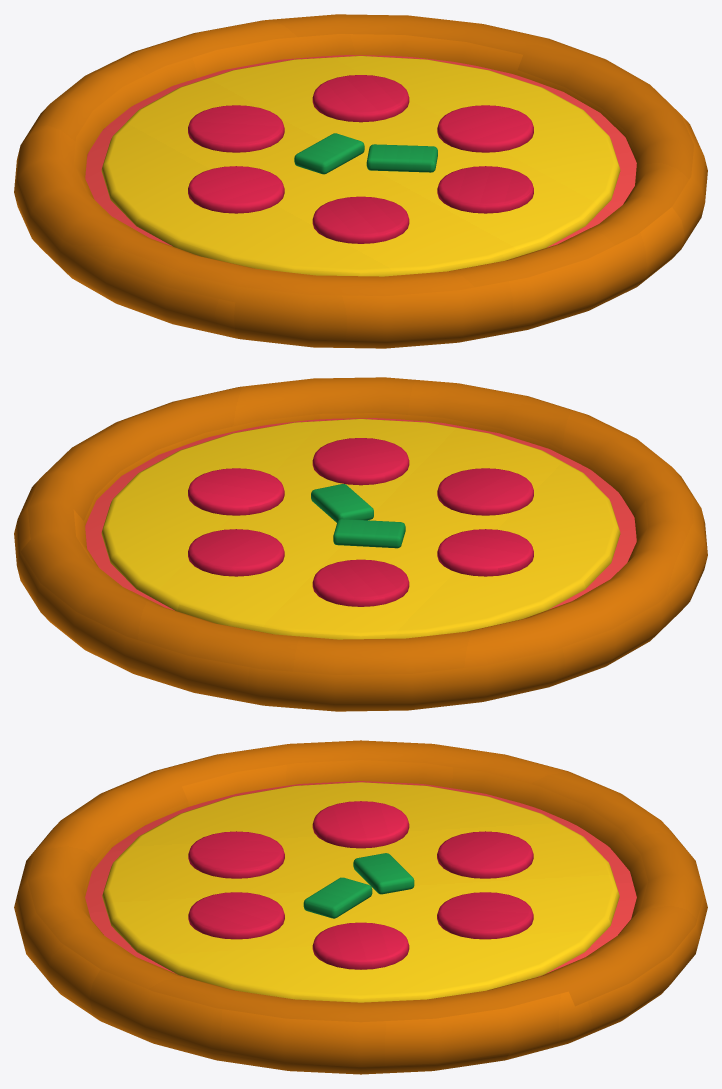
File: pizza.glb
3 views of the same model, one above another, from view 1: azimuth 30°, elevation 25°; view 2: azimuth 150°, elevation 25°; view 3: azimuth 270°, elevation 25° (orthographic).
Visible parts, largest first — view 1: PizzaCornicioneRim, PizzaMeltedCheese, PizzaTomatoSauce, Pepperoni_0, Pepperoni_2, Pepperoni_1, Pepperoni_3, Pepperoni_4, Pepperoni_5, BasilLeaf2, BasilLeaf1; view 2: PizzaCornicioneRim, PizzaMeltedCheese, PizzaTomatoSauce, Pepperoni_0, Pepperoni_4, Pepperoni_1, Pepperoni_2, Pepperoni_3, Pepperoni_5, BasilLeaf1, BasilLeaf2; view 3: PizzaCornicioneRim, PizzaMeltedCheese, PizzaTomatoSauce, Pepperoni_3, Pepperoni_0, Pepperoni_1, Pepperoni_2, Pepperoni_4, Pepperoni_5, BasilLeaf2, BasilLeaf1.
Boxes of the visible parts, left/top/right/bottom form: PizzaCornicioneRim: left=14, top=14, right=707, bottom=348; PizzaMeltedCheese: left=101, top=56, right=620, bottom=276; PizzaTomatoSauce: left=85, top=55, right=636, bottom=247; Pepperoni_0: left=437, top=105, right=533, bottom=152; Pepperoni_2: left=188, top=105, right=284, bottom=152; Pepperoni_1: left=312, top=75, right=409, bottom=122; Pepperoni_3: left=188, top=166, right=284, bottom=213; Pepperoni_4: left=312, top=196, right=409, bottom=243; Pepperoni_5: left=437, top=166, right=533, bottom=213; BasilLeaf2: left=366, top=144, right=437, bottom=172; BasilLeaf1: left=294, top=133, right=364, bottom=174; PizzaCornicioneRim: left=14, top=377, right=707, bottom=711; PizzaMeltedCheese: left=101, top=419, right=620, bottom=639; PizzaTomatoSauce: left=85, top=418, right=636, bottom=610; Pepperoni_0: left=188, top=468, right=284, bottom=515; Pepperoni_4: left=437, top=468, right=533, bottom=515; Pepperoni_1: left=188, top=529, right=284, bottom=576; Pepperoni_2: left=312, top=559, right=409, bottom=606; Pepperoni_3: left=437, top=529, right=533, bottom=576; Pepperoni_5: left=312, top=438, right=409, bottom=485; BasilLeaf1: left=333, top=519, right=405, bottom=548; BasilLeaf2: left=311, top=484, right=373, bottom=522; PizzaCornicioneRim: left=14, top=740, right=707, bottom=1074; PizzaMeltedCheese: left=102, top=782, right=619, bottom=1002; PizzaTomatoSauce: left=85, top=781, right=636, bottom=976; Pepperoni_3: left=312, top=801, right=409, bottom=848; Pepperoni_0: left=312, top=922, right=409, bottom=969; Pepperoni_1: left=437, top=892, right=533, bottom=939; Pepperoni_2: left=437, top=831, right=533, bottom=878; Pepperoni_4: left=188, top=831, right=284, bottom=878; Pepperoni_5: left=188, top=892, right=284, bottom=939; BasilLeaf2: left=303, top=877, right=372, bottom=918; BasilLeaf1: left=353, top=853, right=414, bottom=894.
Bounding box in the file's own units: 0.604 × 0.0632 × 0.604.
Materials: 5 (5 with a texture image).
